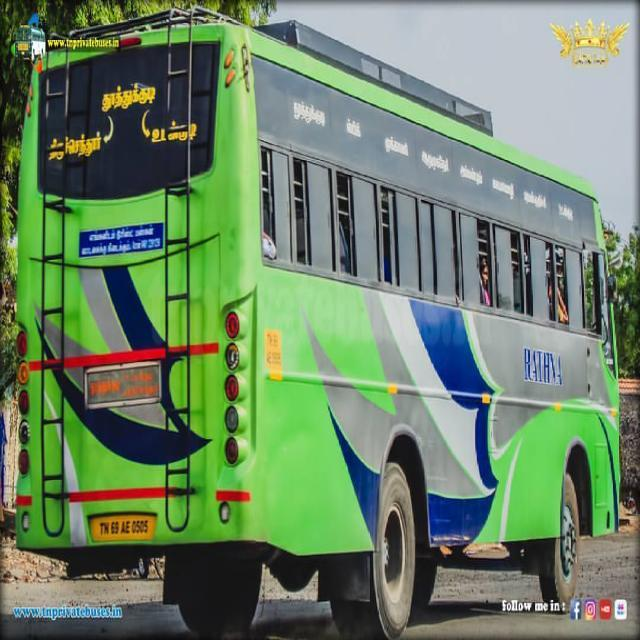Bus: (15, 4, 626, 640)
